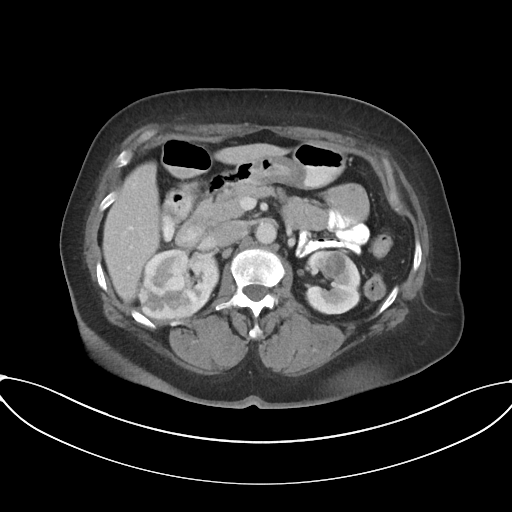Lesion: (322, 252, 350, 280)
